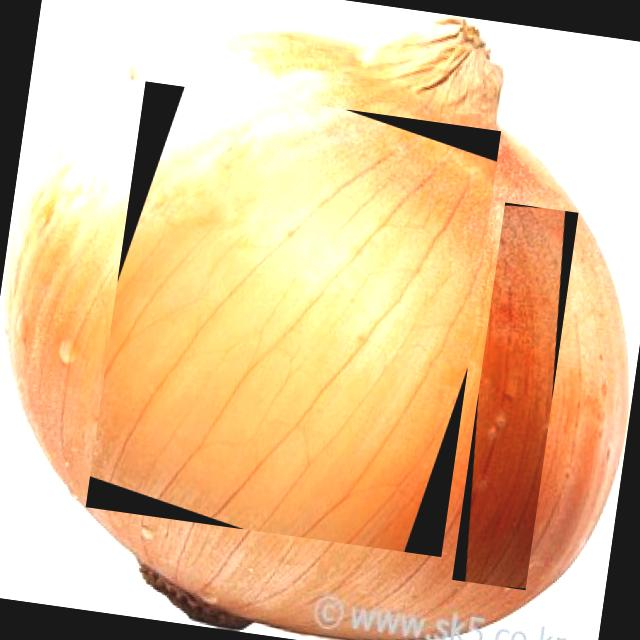healthy: (86, 81, 501, 558), (452, 202, 578, 590)
